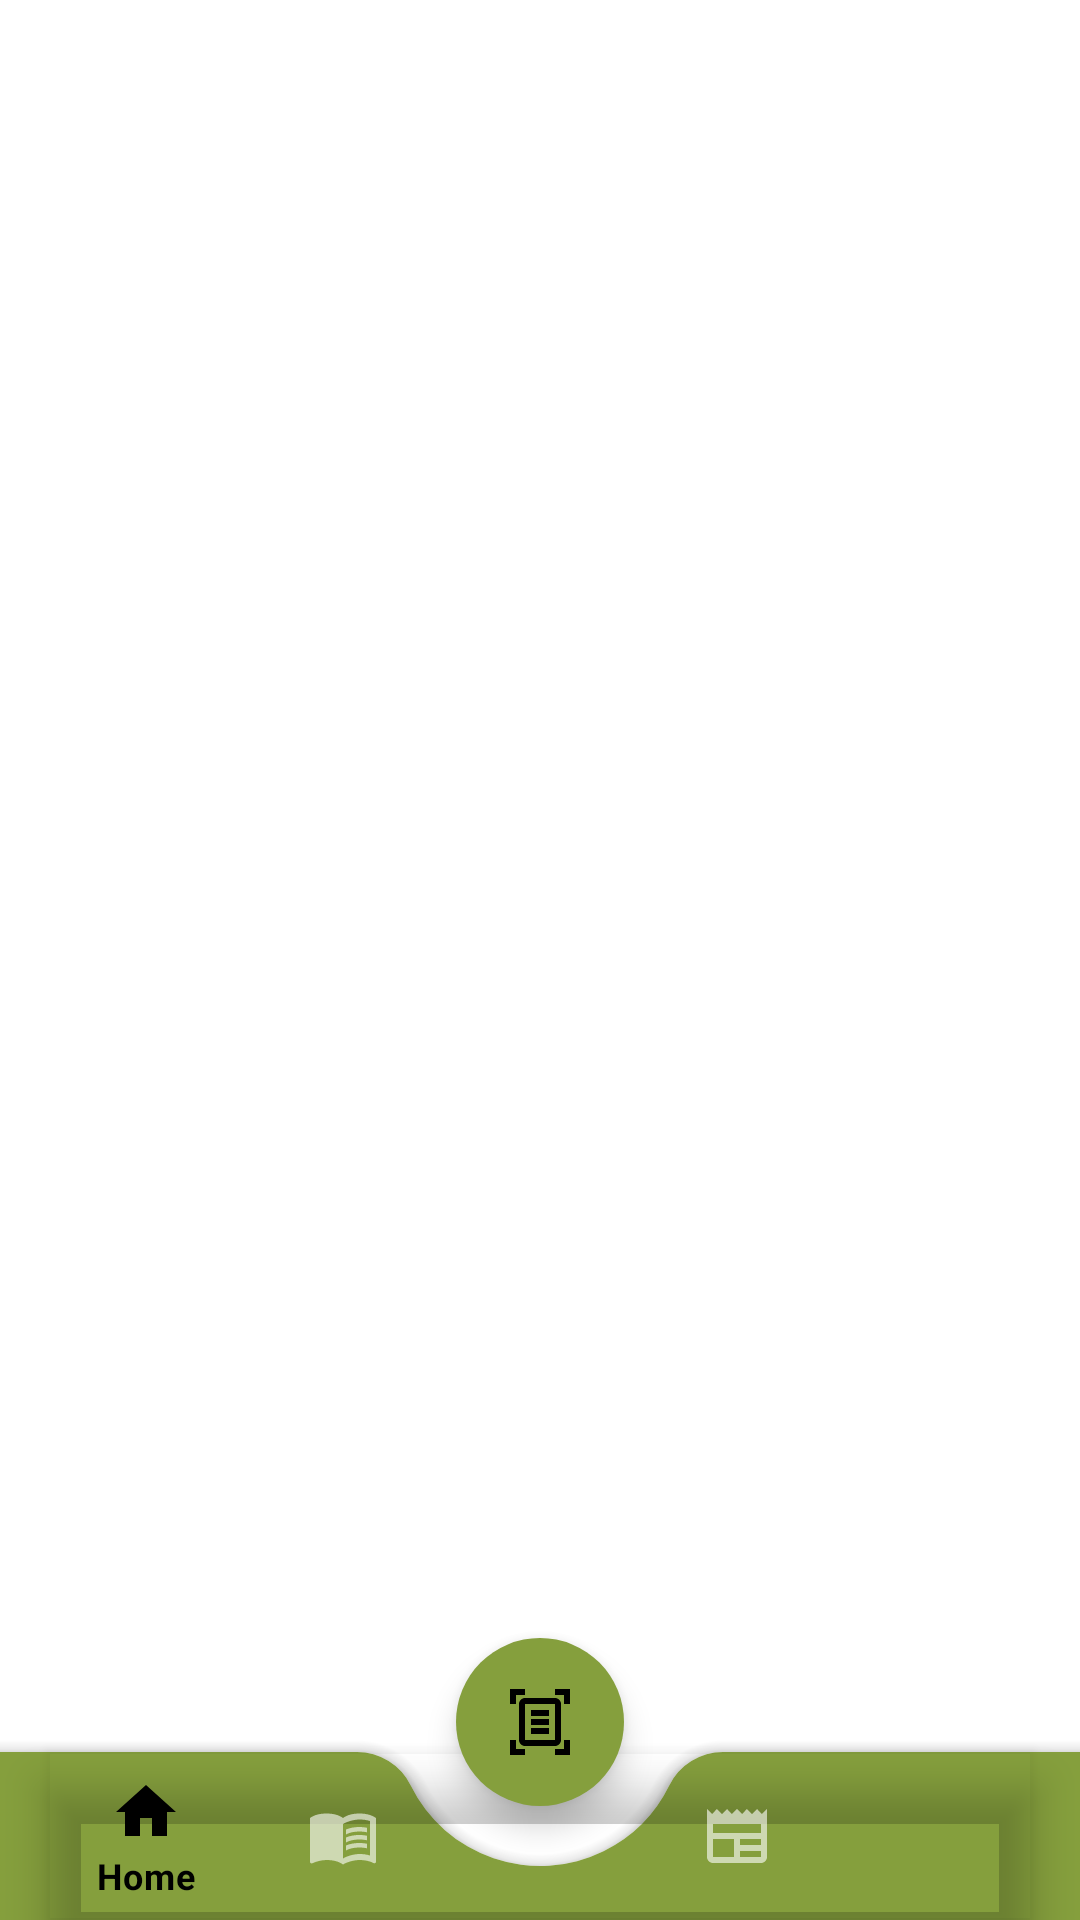

Icons on this 1080px x 1920px Android screen, each with its box as (x1, y1, x2, y2):
Scan button to start the scan process: (456, 1668, 624, 1824)
